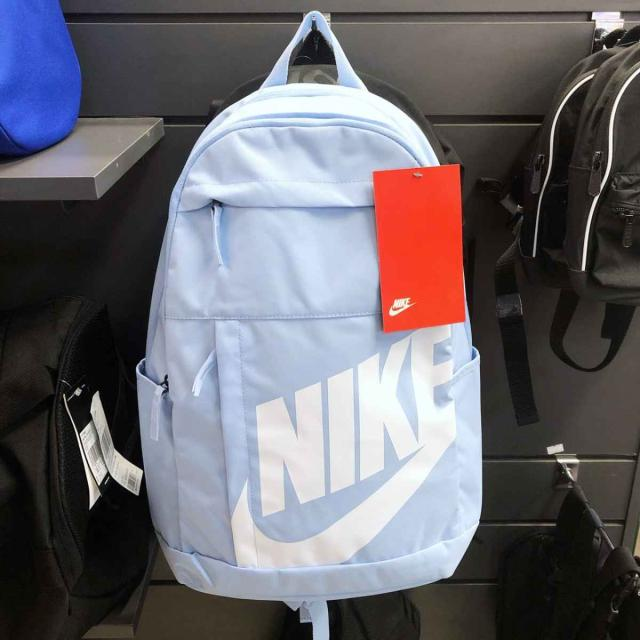handbag: (132, 55, 502, 600)
